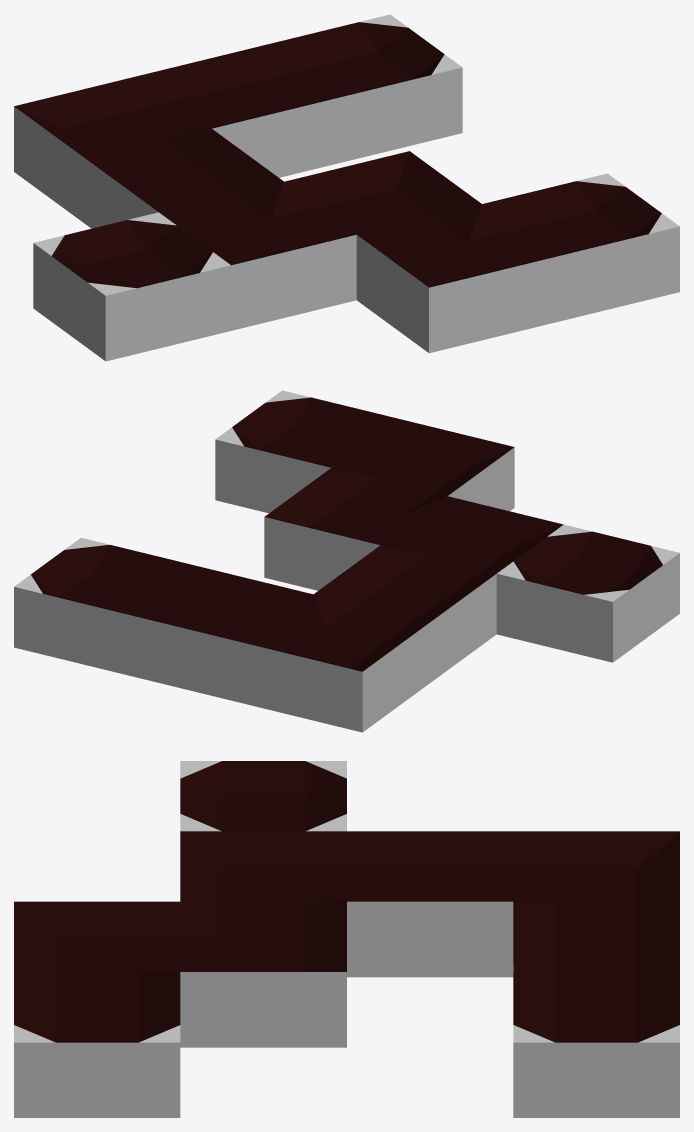
The model's file is 69f_path.obj.
3 views of the same model, one above another, from view 1: azimuth 30°, elevation 25°; view 2: azimuth 150°, elevation 25°; view 3: azimuth 270°, elevation 25° (orthographic). The views are drawn at different scales.
Visible parts, largest first — view 1: foil.hole.0.2_Cube.289, foil.corner.2.1_corner.1428, foil.ending.3.1_ending.575, foil.ending.3.4_ending.576, foil.through.2.4_through.299, foil.corner.1.2_corner.1426, foil.corner.1.4_corner.1427, foil.through.1.3_through.298, foil.corner.2.2_corner.1429; view 2: foil.hole.0.2_Cube.289, foil.corner.1.4_corner.1427, foil.ending.3.4_ending.576, foil.through.2.4_through.299, foil.ending.3.1_ending.575, foil.corner.2.2_corner.1429, foil.through.1.3_through.298, foil.corner.2.1_corner.1428, foil.corner.1.2_corner.1426; view 3: foil.through.1.3_through.298, foil.corner.2.2_corner.1429, foil.ending.3.1_ending.575, foil.ending.3.4_ending.576, foil.corner.2.1_corner.1428, foil.corner.1.2_corner.1426, foil.corner.1.4_corner.1427, foil.through.2.4_through.299, foil.hole.0.2_Cube.289.
Part boxes in pixels (box(x1,y1,x2,y2)): foil.hole.0.2_Cube.289: box(33, 212, 231, 361); foil.corner.2.1_corner.1428: box(356, 204, 554, 353); foil.ending.3.1_ending.575: box(482, 173, 679, 322); foil.ending.3.4_ending.576: box(265, 14, 462, 163); foil.through.2.4_through.299: box(140, 45, 337, 177); foil.corner.1.2_corner.1426: box(159, 182, 356, 330); foil.corner.1.4_corner.1427: box(14, 75, 211, 224); foil.through.1.3_through.298: box(86, 129, 283, 228); foil.corner.2.2_corner.1429: box(284, 151, 481, 243); foil.hole.0.2_Cube.289: box(496, 524, 679, 662); foil.corner.1.4_corner.1427: box(246, 594, 429, 732); foil.ending.3.4_ending.576: box(14, 537, 196, 675); foil.through.2.4_through.299: box(130, 566, 313, 703); foil.ending.3.1_ending.575: box(215, 390, 397, 513); foil.corner.2.2_corner.1429: box(264, 468, 447, 590); foil.through.1.3_through.298: box(313, 545, 496, 682); foil.corner.2.1_corner.1428: box(332, 418, 514, 511); foil.corner.1.2_corner.1426: box(381, 496, 563, 581); foil.through.1.3_through.298: box(347, 831, 513, 977); foil.corner.2.2_corner.1429: box(180, 902, 346, 1047); foil.ending.3.1_ending.575: box(14, 972, 180, 1117); foil.ending.3.4_ending.576: box(513, 972, 679, 1117); foil.corner.2.1_corner.1428: box(14, 901, 180, 990); foil.corner.1.2_corner.1426: box(180, 831, 346, 920); foil.corner.1.4_corner.1427: box(513, 831, 679, 920); foil.through.2.4_through.299: box(513, 902, 679, 990); foil.hole.0.2_Cube.289: box(180, 761, 346, 831).
Size of the model in its own units: 8 by 1 by 8.
